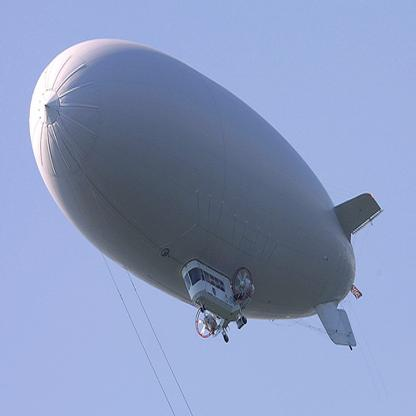Airship: (22, 38, 381, 352)
